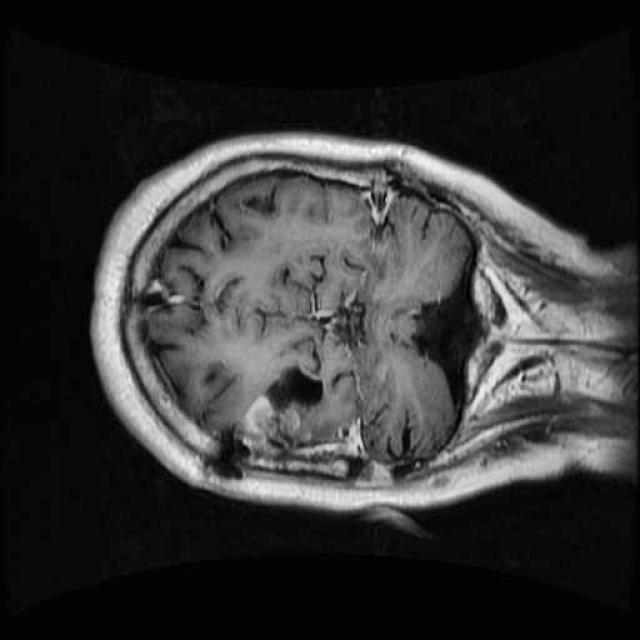Tumor: (231, 378, 319, 469)
